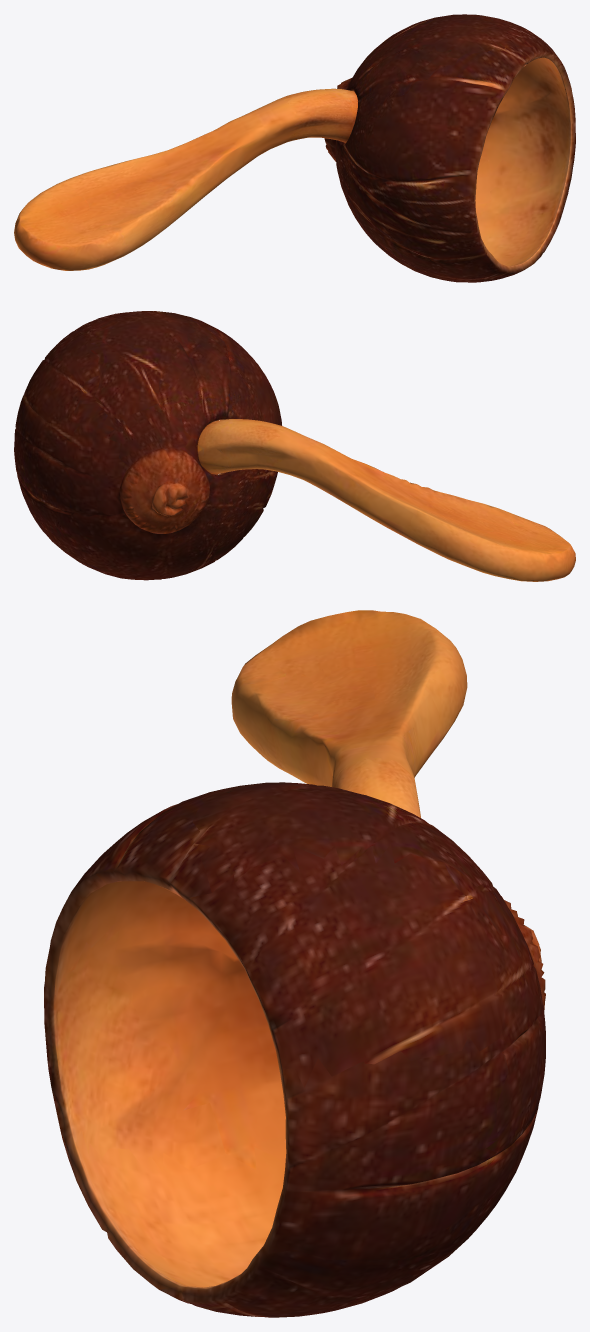
Rendered from centong.glb.
The picture shows the model from 3 angles, top to bottom: view 1: azimuth 30°, elevation 25°; view 2: azimuth 150°, elevation 25°; view 3: azimuth 270°, elevation 25°; orthographic projection. The views are drawn at different scales.
Visible parts, largest first — view 1: centong; view 2: centong; view 3: centong.
Boxes of the visible parts, left/top/right/bottom form: centong: left=14, top=14, right=575, bottom=282; centong: left=14, top=311, right=575, bottom=581; centong: left=44, top=610, right=545, bottom=1317.
Bounding box in the file's own units: 0.3477 × 0.1488 × 0.1398.
1 material, 1 textured.
